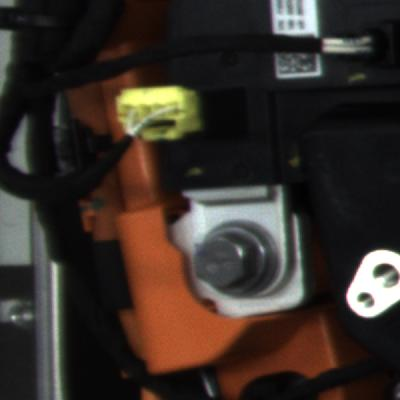nut_b: (188, 225, 292, 306)
